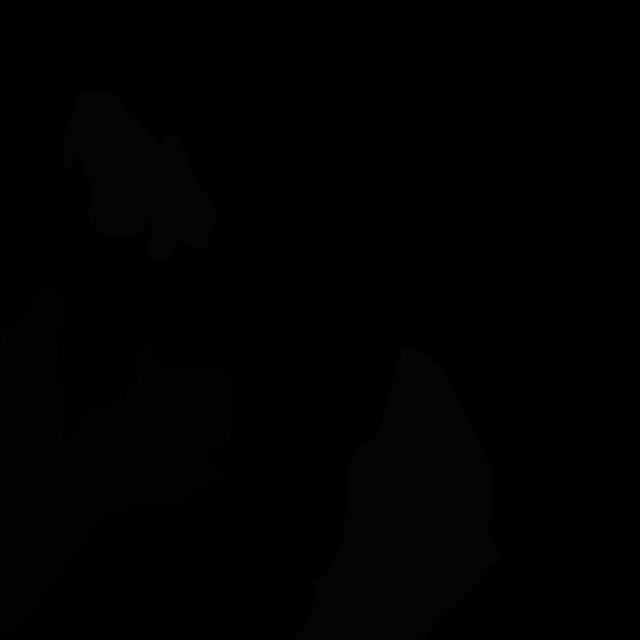cardboard: (0, 287, 124, 636), (108, 342, 238, 515)
soft_plastic: (294, 346, 500, 640), (63, 89, 218, 262)
